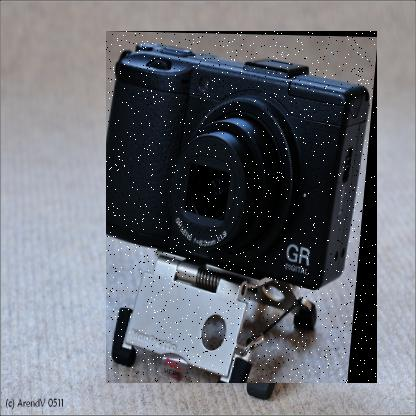Camera: (107, 32, 379, 385)
